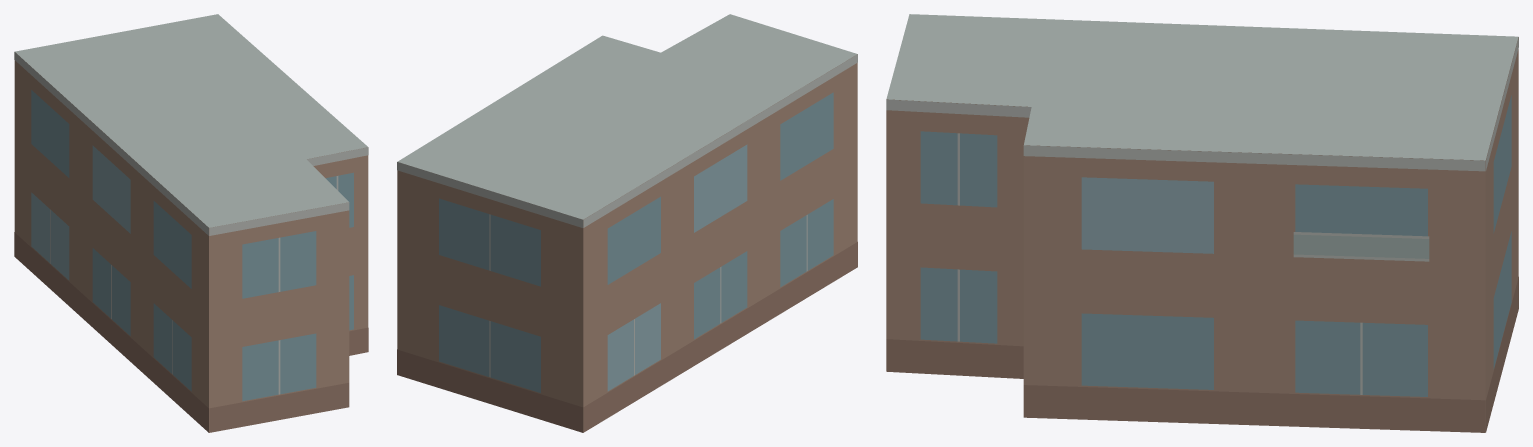
Rendered from survey-upis-32674078.glb.
The picture shows the model from 3 angles, left to right: view 1: azimuth 30°, elevation 25°; view 2: azimuth 150°, elevation 25°; view 3: azimuth 270°, elevation 25°; orthographic projection. The views are drawn at different scales.
Visible parts, largest first — view 1: survey-upis-32674078.tmp; view 2: survey-upis-32674078.tmp; view 3: survey-upis-32674078.tmp.
Part boxes in pixels (x1,y1,x2,y2): survey-upis-32674078.tmp: (14, 14, 368, 432); survey-upis-32674078.tmp: (397, 14, 857, 432); survey-upis-32674078.tmp: (886, 14, 1518, 432).
Size of the model in its own units: 7.05 by 6.1 by 12.85.
